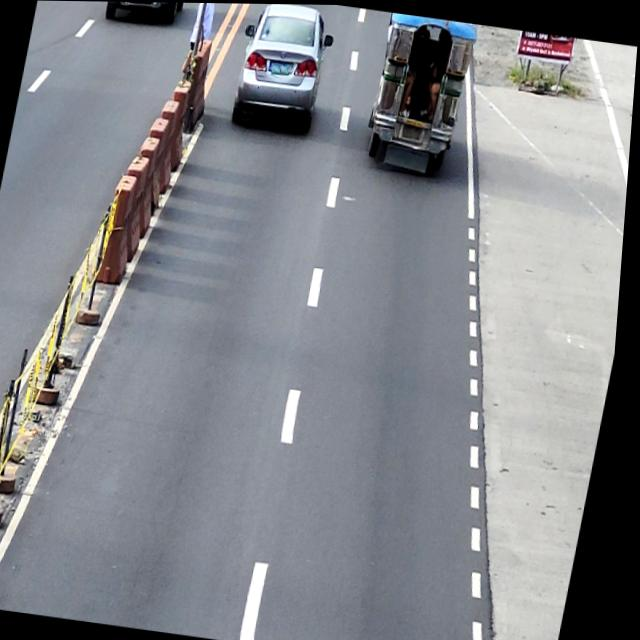Car: (227, 3, 339, 133), (102, 1, 185, 26)
Jeep: (361, 11, 480, 176)
License-Plate: (402, 122, 425, 140), (270, 60, 292, 76)
